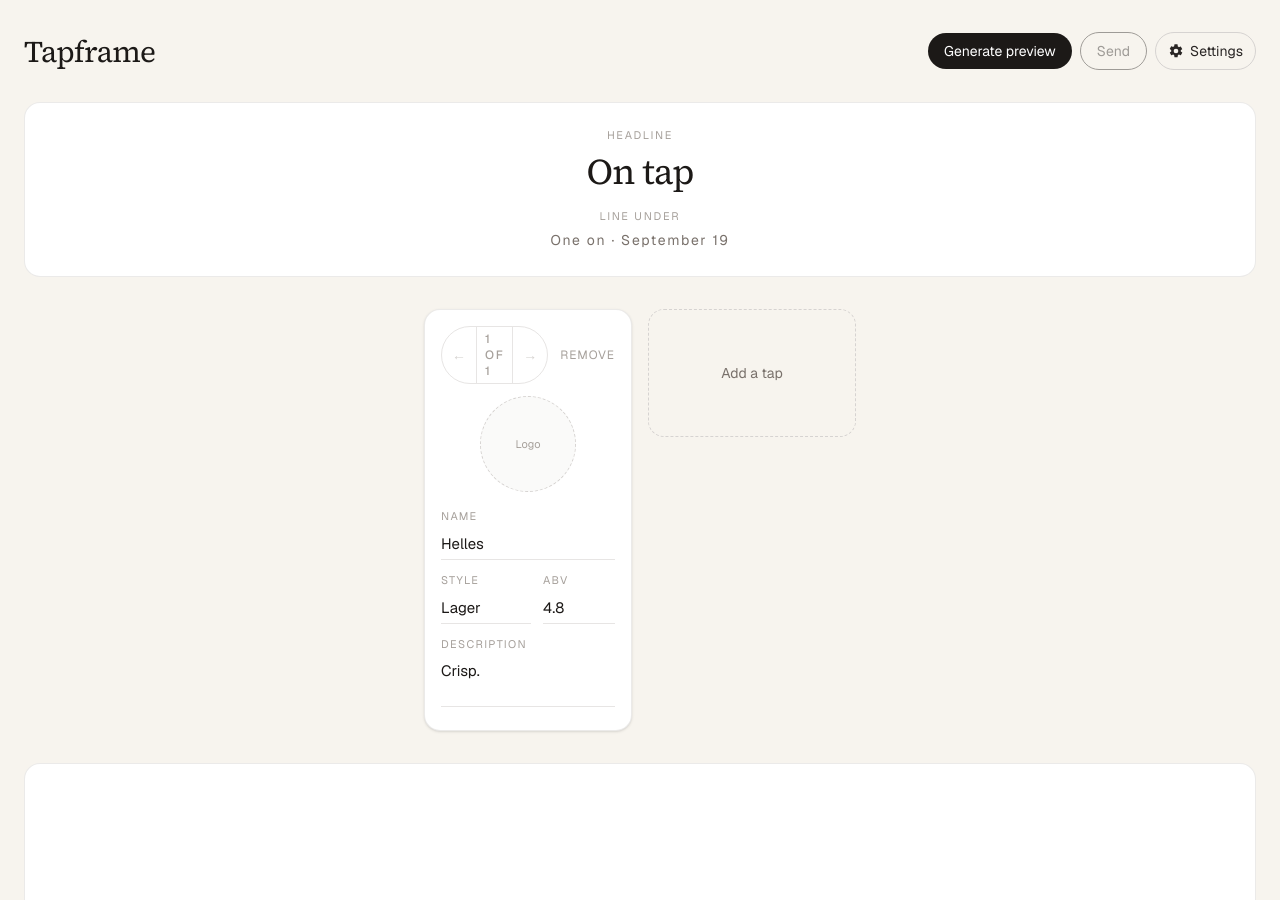
Test: AdminApp › autosaves edits to the server after a short pause
The image size is (1280, 900).
Type "Weekend" into the field labelled "Headline".
click(640, 172); type("Weekend")  # box x1=49 y1=152 x2=1231 y2=192
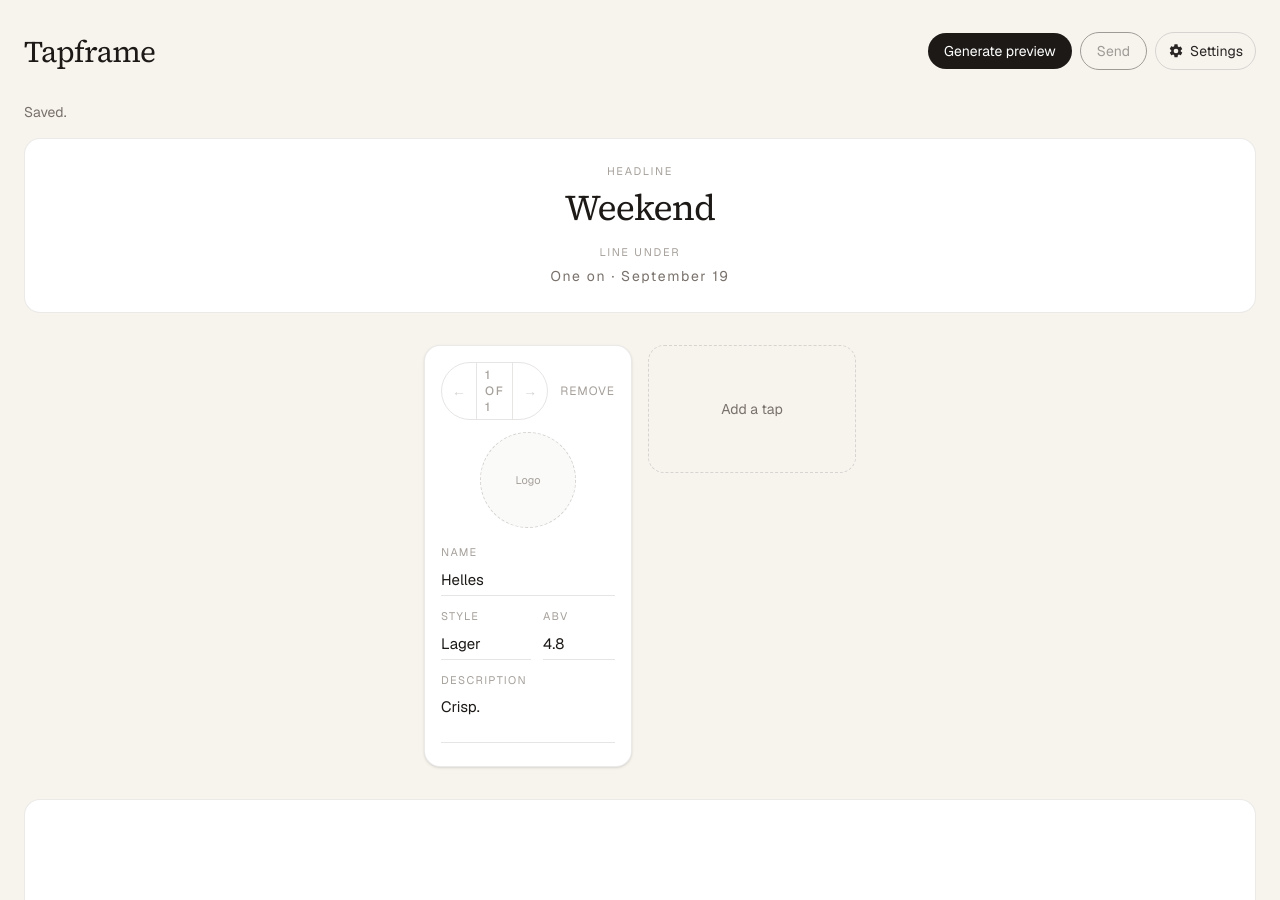
Expected: the text "Saved." is shown, x1=24 y1=103 x2=66 y2=121
